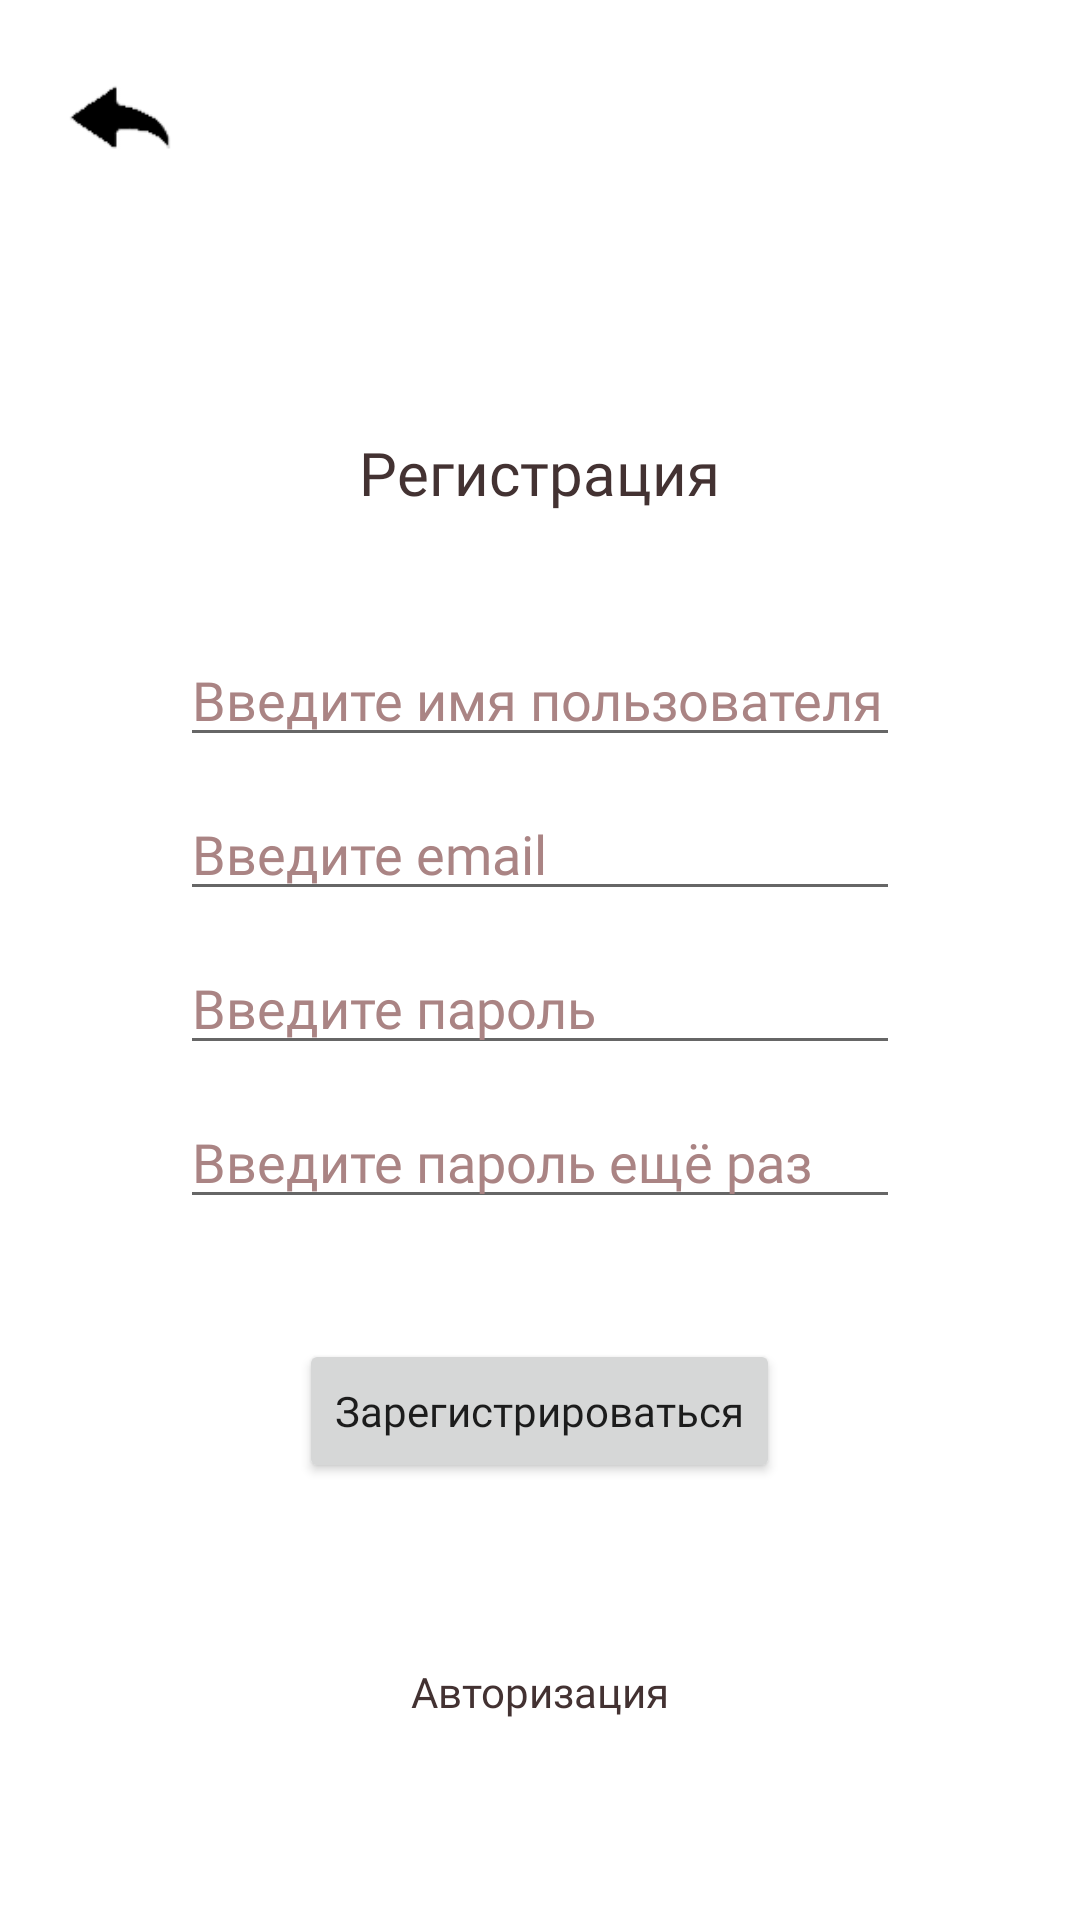

Where to tap for icons on this 1080px x 1920px app screen, as point (x, y):
arrow back: point (120, 117)
